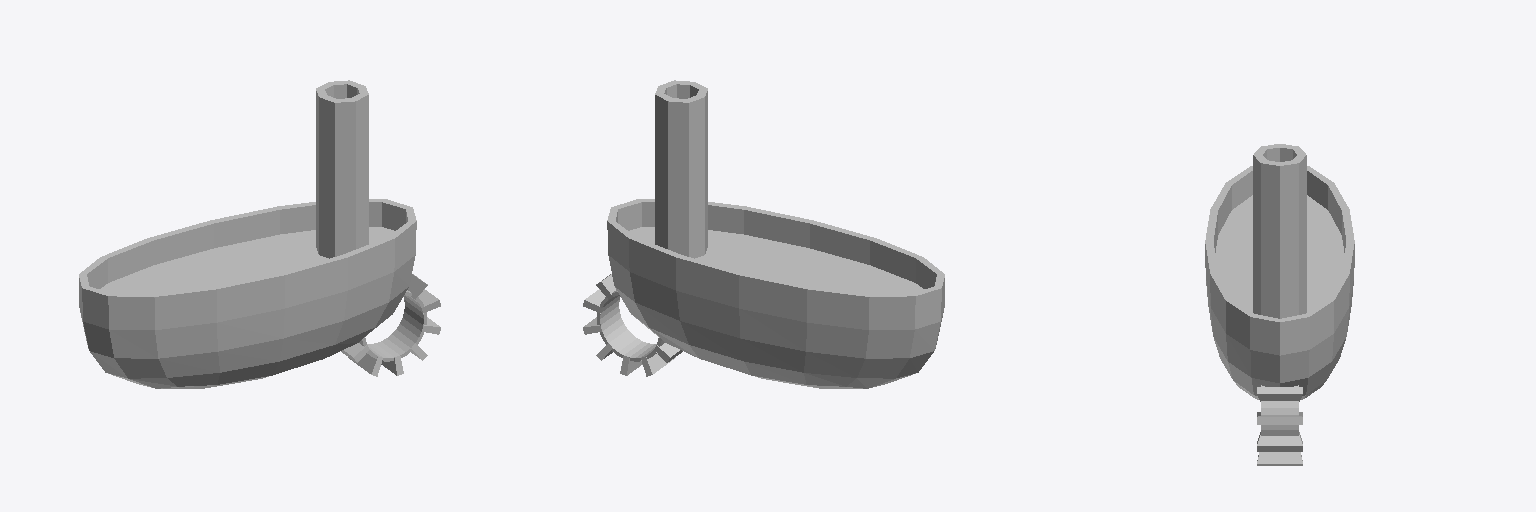
The model's file is statek.obj.
The picture shows the model from 3 angles: view 1: azimuth 30°, elevation 25°; view 2: azimuth 150°, elevation 25°; view 3: azimuth 270°, elevation 25°; orthographic projection.
Parts seen in each view (by area): view 1: kadlub, komin, kolo; view 2: kadlub, komin, kolo; view 3: kadlub, komin, kolo.
Part boxes in pixels (bbox=[...]): kadlub: bbox=[79, 199, 416, 388]; komin: bbox=[316, 80, 368, 258]; kolo: bbox=[341, 274, 440, 376]; kadlub: bbox=[607, 199, 944, 388]; komin: bbox=[655, 80, 707, 258]; kolo: bbox=[583, 274, 682, 376]; kadlub: bbox=[1205, 166, 1354, 399]; komin: bbox=[1253, 144, 1306, 318]; kolo: bbox=[1257, 385, 1302, 465].
Size of the model in its own units: 11.81 by 9.3 by 4.4.